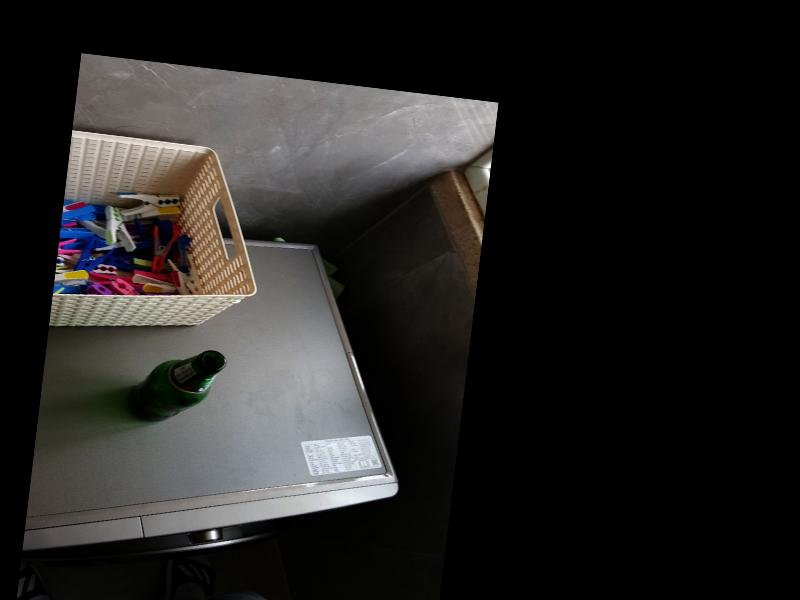Beer: (126, 342, 227, 430)
